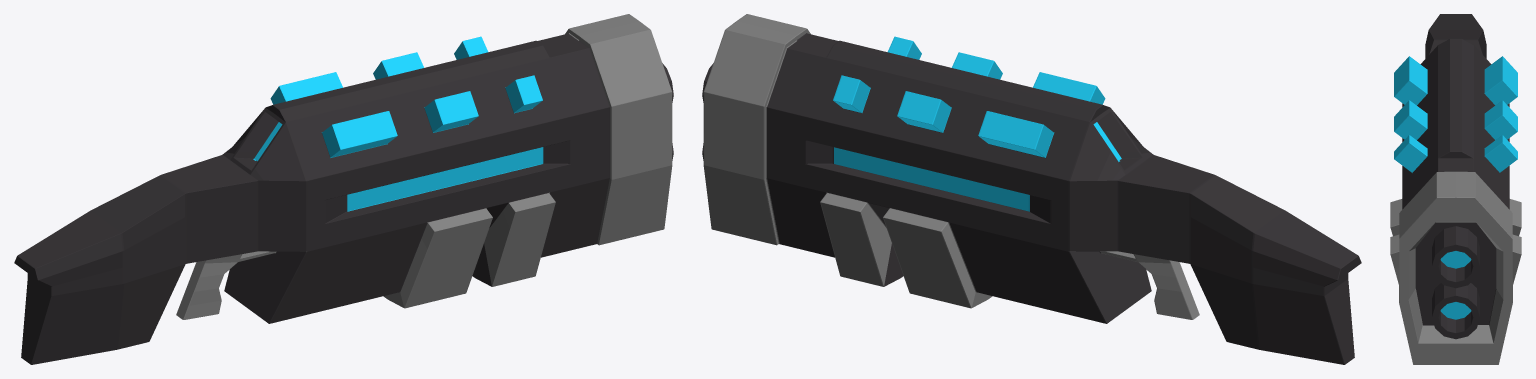
Rendered from Lanzaplasma.fbx.
3 views of the same model, side by side, from view 1: azimuth 30°, elevation 25°; view 2: azimuth 150°, elevation 25°; view 3: azimuth 270°, elevation 25° (orthographic). The views are drawn at different scales.
Visible parts, largest first — view 1: Cube.072; view 2: Cube.072; view 3: Cube.072.
Part boxes in pixels (x1=…): Cube.072: x1=14, y1=14, x2=673, y2=364; Cube.072: x1=702, y1=14, x2=1361, y2=364; Cube.072: x1=1390, y1=14, x2=1521, y2=364.
Bounding box in the file's own units: 0.9373 × 0.2964 × 0.191.
